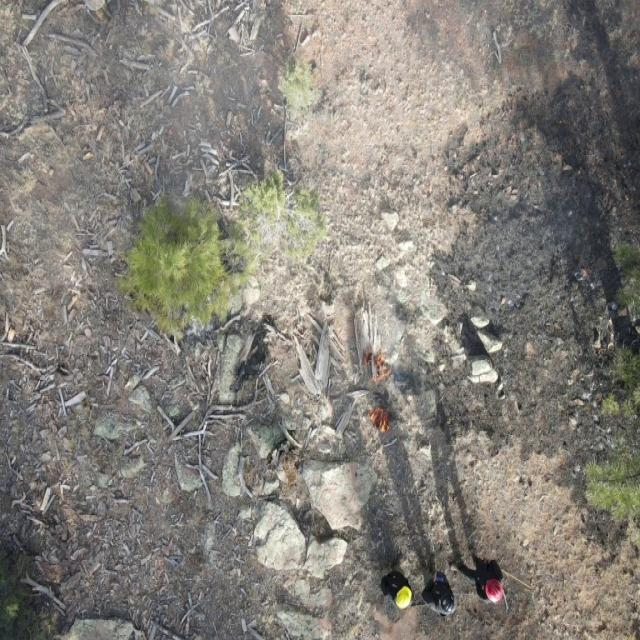fire: (359, 346, 394, 386), (366, 400, 391, 435)
smoke: (55, 1, 266, 200), (253, 206, 426, 388)
